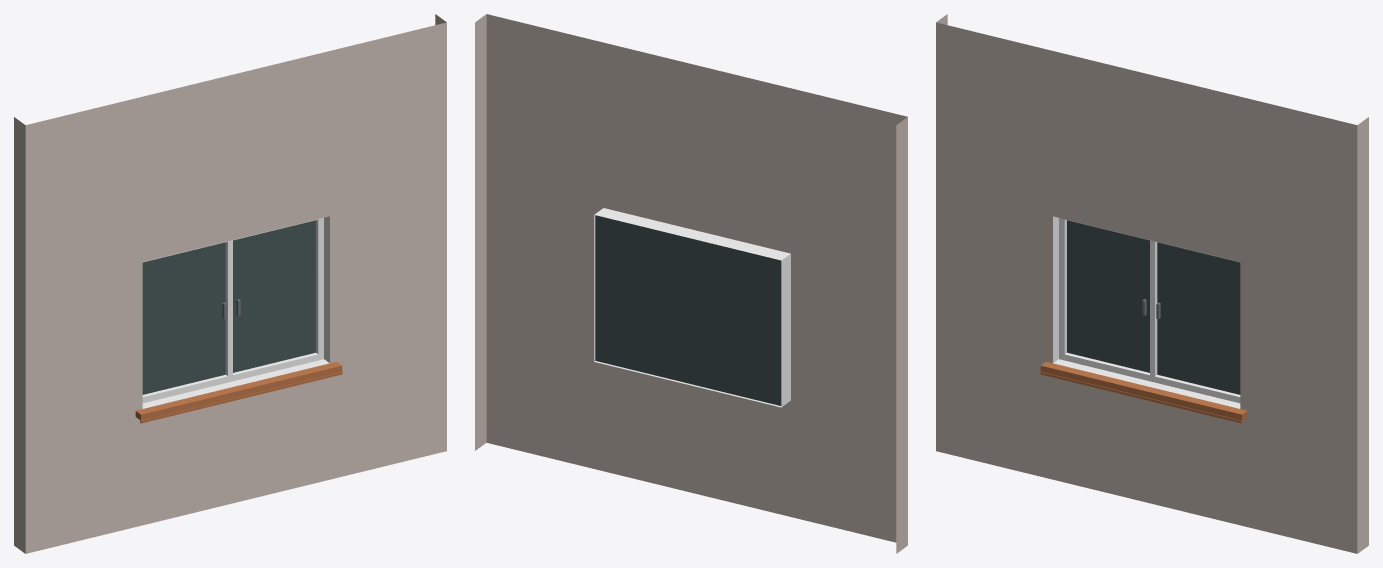
Rendered from mid-stair3_close.fbx.
The picture shows the model from 3 angles, left to right: view 1: azimuth 30°, elevation 25°; view 2: azimuth 150°, elevation 25°; view 3: azimuth 330°, elevation 25°; orthographic projection.
Visible parts, largest first — view 1: a2000s2/200/mid-stair_close; view 2: a2000s2/200/mid-stair_close; view 3: a2000s2/200/mid-stair_close.
Part boxes in pixels (left/top/right/bottom): a2000s2/200/mid-stair_close: left=14, top=14, right=446, bottom=553; a2000s2/200/mid-stair_close: left=475, top=14, right=907, bottom=553; a2000s2/200/mid-stair_close: left=936, top=14, right=1368, bottom=553.
Size of the model in its own units: 3.6 by 3.5 by 0.255.
